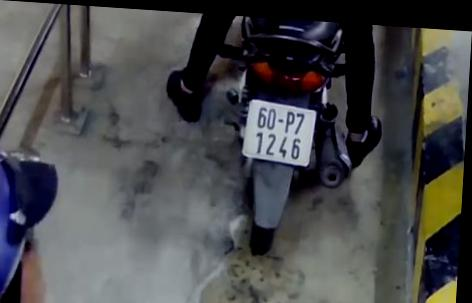License_Plate: (238, 94, 322, 175)
